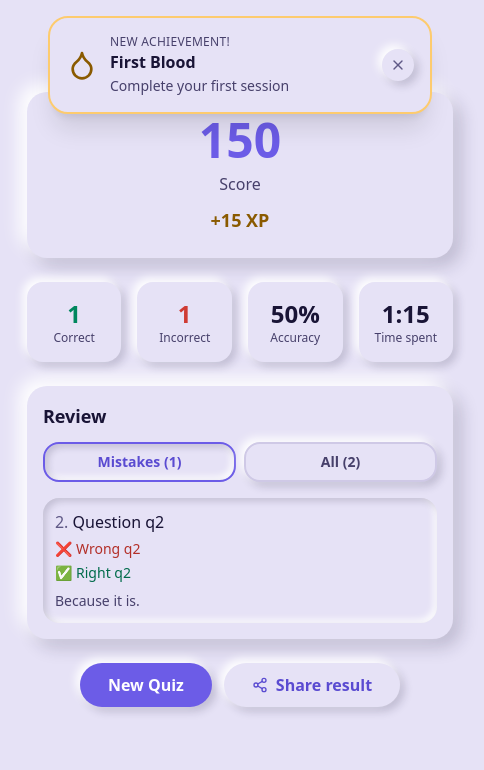
Test: ResultsScreen › reports a failed share
Click the button "Share result" at (312, 685), box [224, 663, 400, 707]
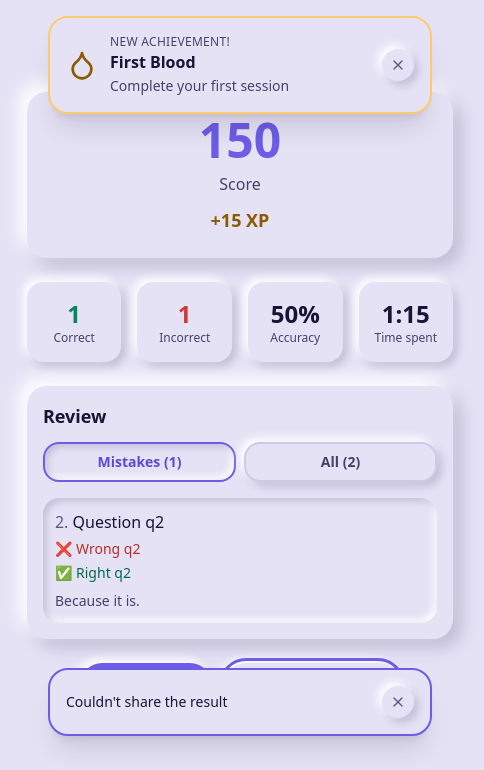
Now the text "Couldn't share the result" is shown, box [66, 692, 228, 711]
